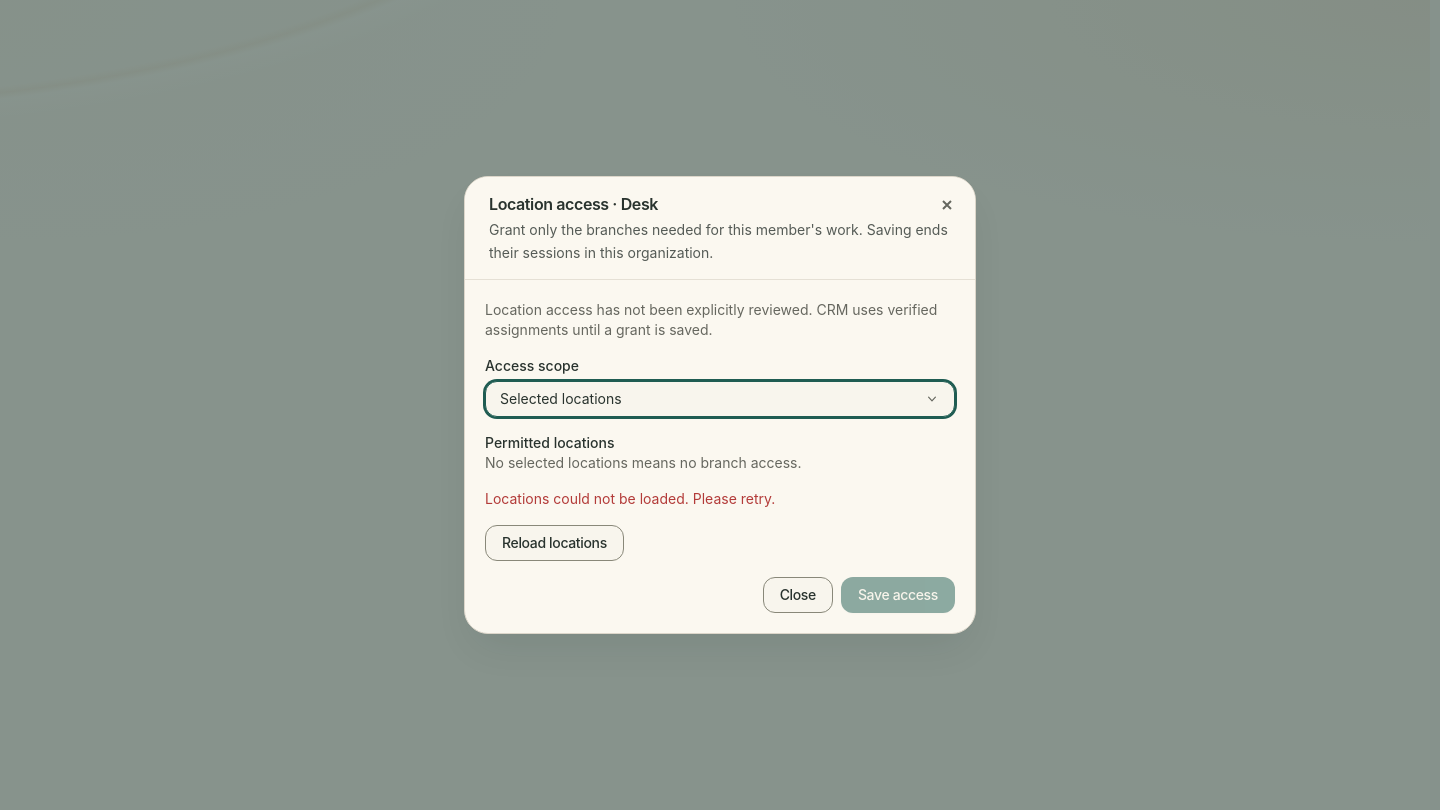
Reviewed branch grants › does not save a guessed grant when locations cannot be loaded
The width and height of the screenshot is (1440, 810).
Expected: the message "Locations could not be loaded. Please retry." is shown, x1=485 y1=490 x2=775 y2=507
Expected: the button "Save access" is disabled, x1=841 y1=577 x2=955 y2=613
Step 1. Click the button "Reload locations" → (554, 543), box x1=485 y1=525 x2=624 y2=561
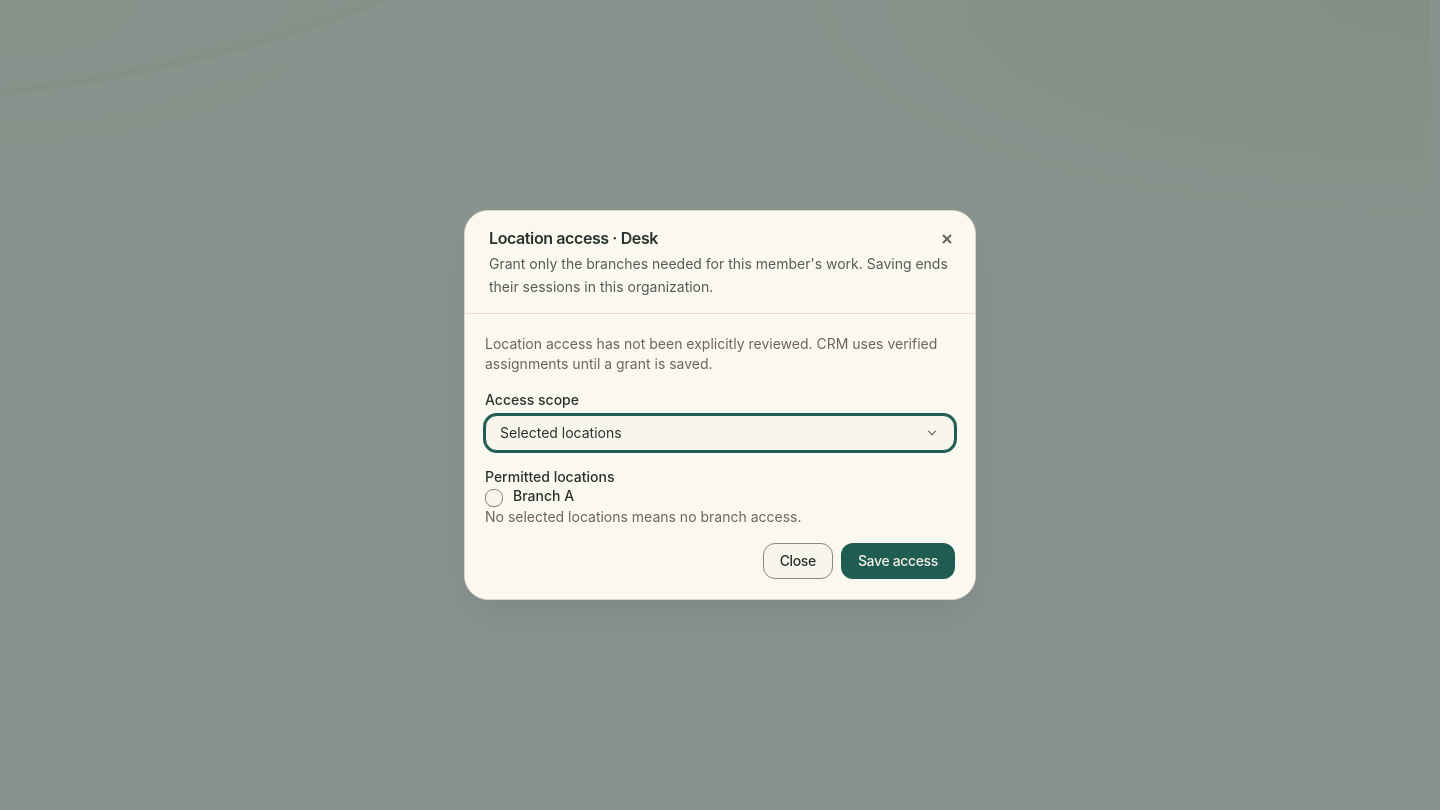
Expected: the checkbox labelled "Branch A" is shown, x1=485 y1=487 x2=574 y2=507
Expected: the button "Save access" is enabled, x1=841 y1=543 x2=955 y2=579
